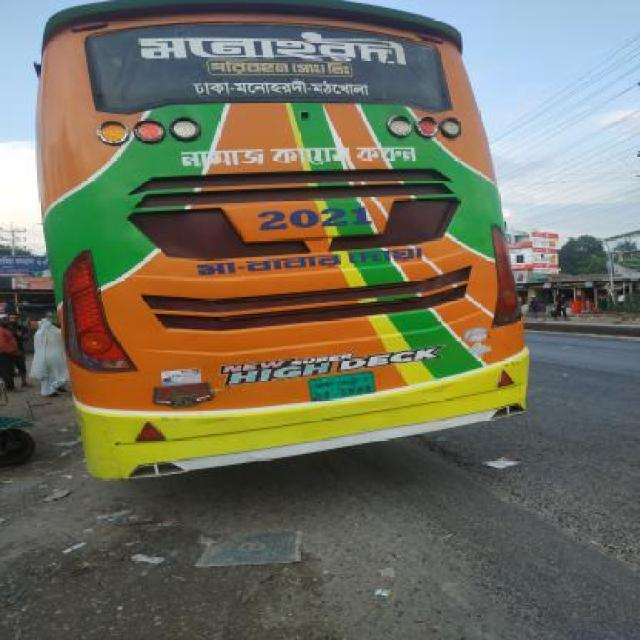numberplate: (294, 372, 391, 402)
